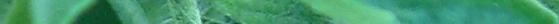Tomato leaf: (194, 0, 559, 24)
